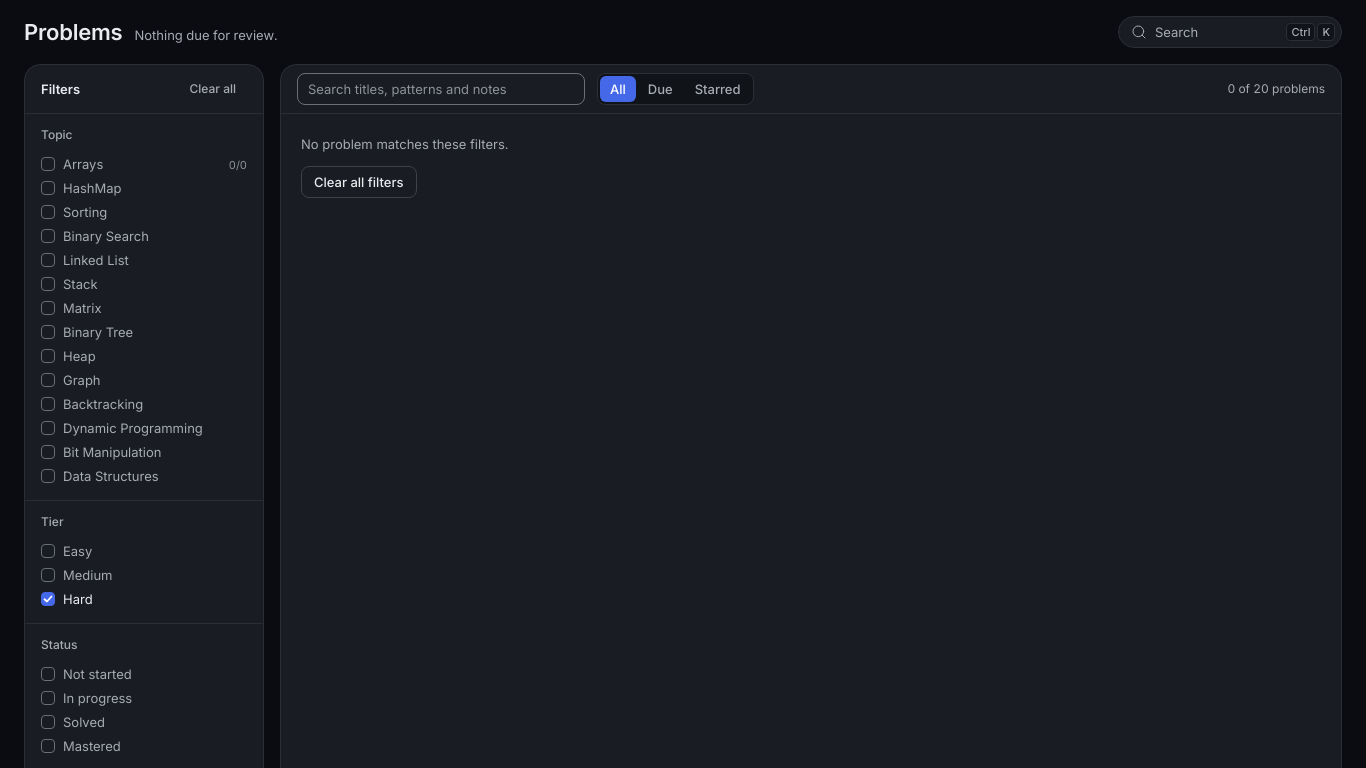
it: empty states › puts focus in the search box when the way out takes itself away
This screenshot has width=1366, height=768.
Click the button "Clear all filters": click(359, 182) [301,166,416,198]
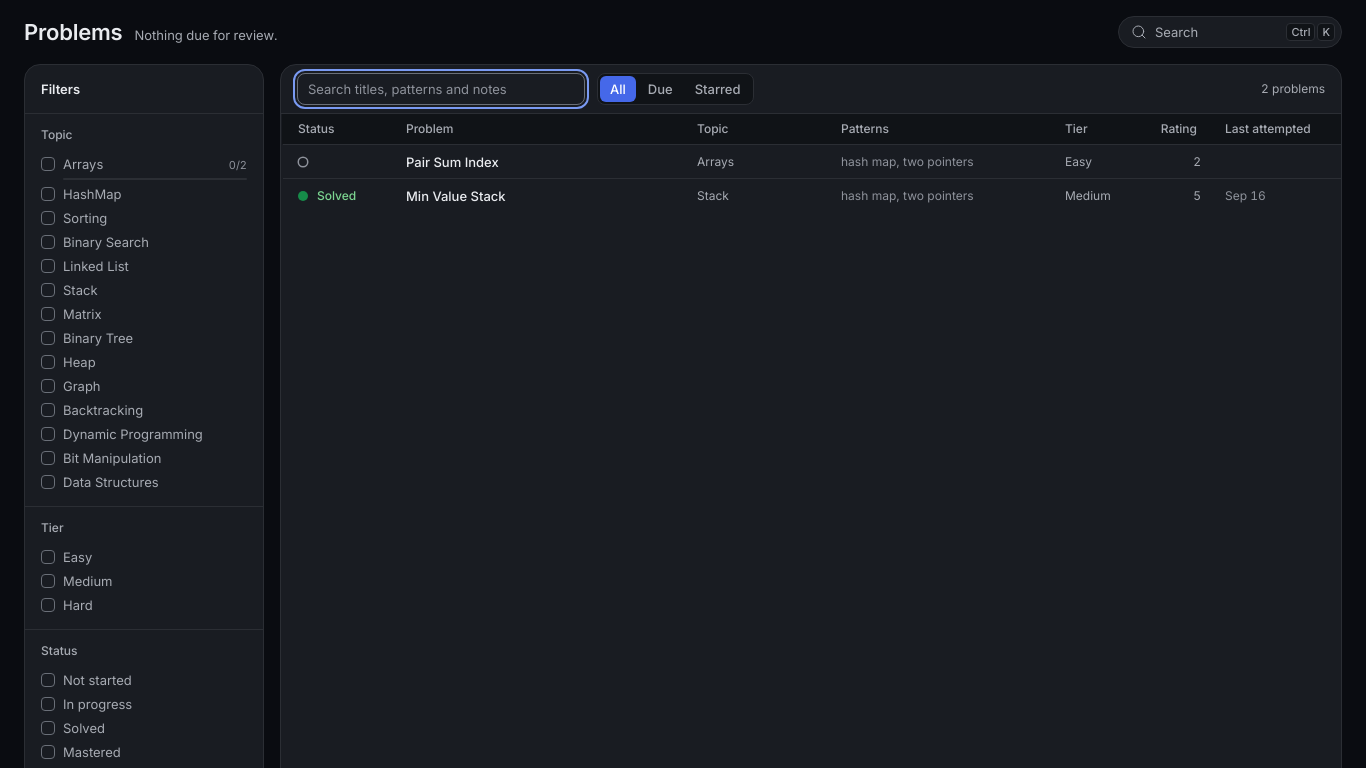
Expected: the row "Pair Sum Index Arrays hash map, two pointers Easy 2" is shown, [282,144,1341,178]
